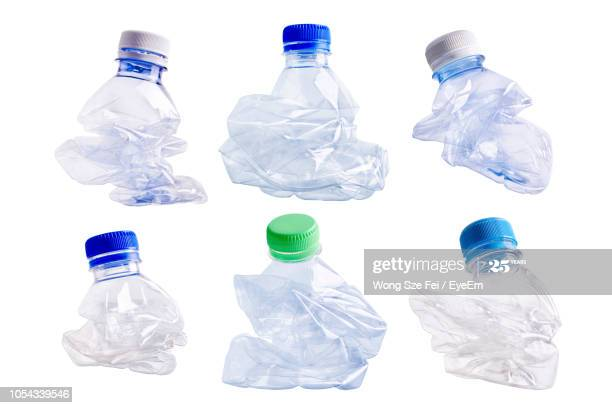plastic_bottle: (215, 15, 402, 211), (43, 11, 214, 213), (413, 21, 572, 202), (212, 211, 361, 396), (410, 217, 561, 394), (51, 225, 199, 388)
